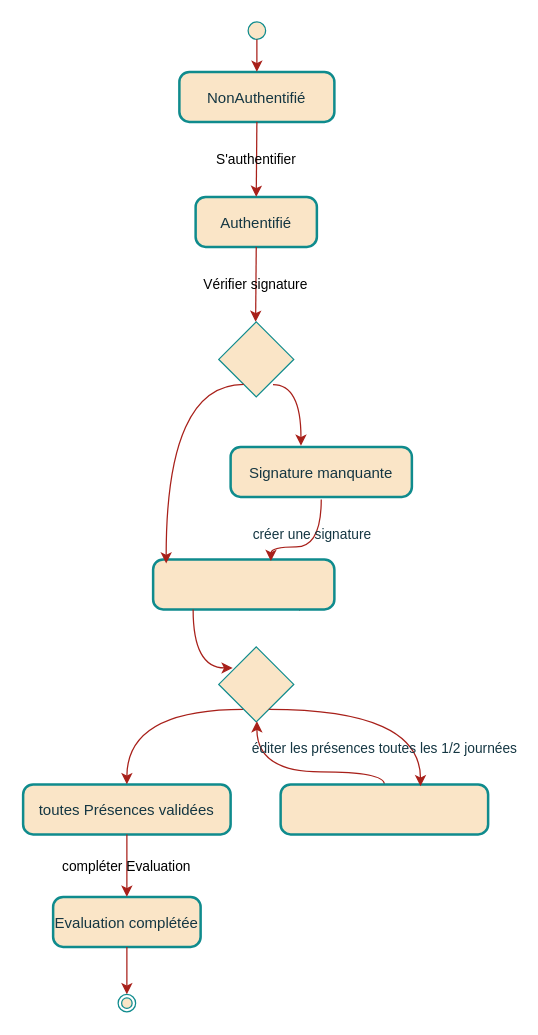
Some shapes in this 538 by 1035 pixel diagram are drawn without their labels. Each missing label, with the centre of its shape:
Présences validées partielles: point (384, 808)
Signature existante: point (243, 584)
